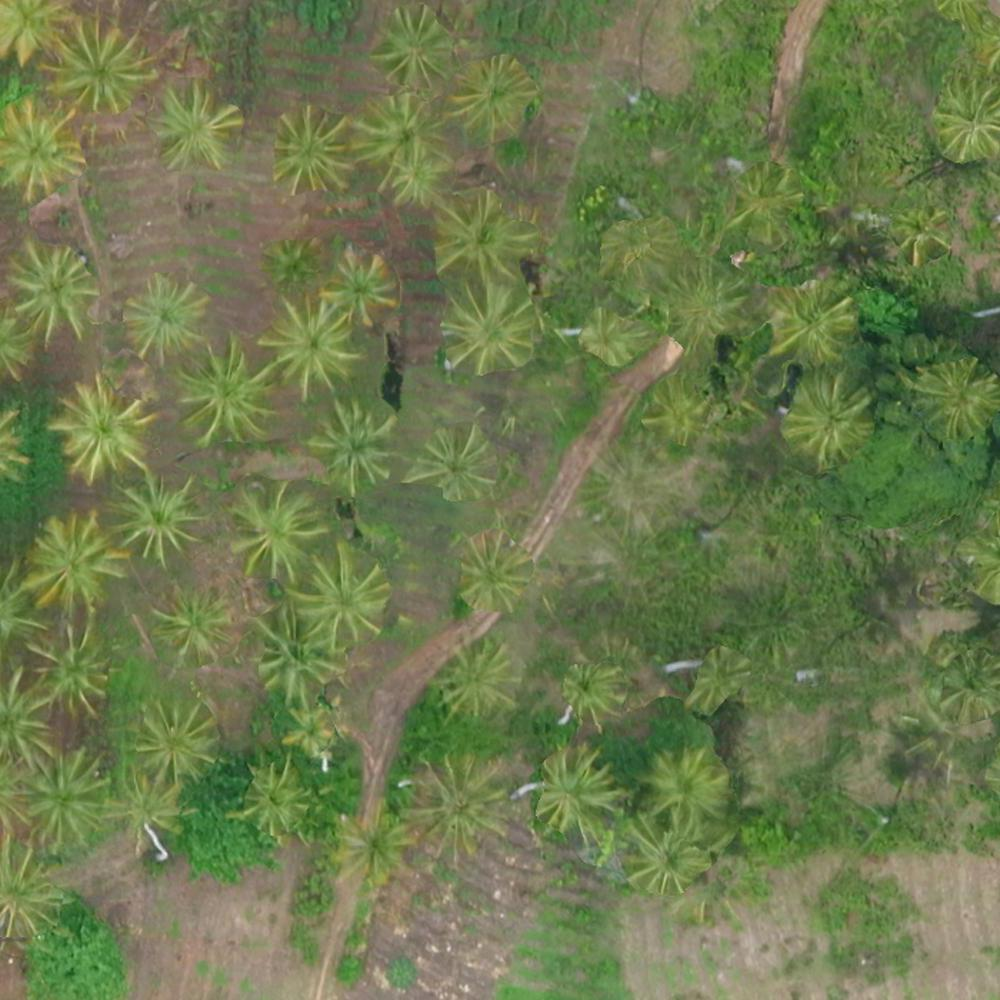Palm: (175, 338, 271, 439), (17, 749, 111, 851), (49, 18, 150, 111), (429, 194, 538, 280), (220, 485, 324, 575), (250, 604, 348, 698), (296, 544, 394, 636), (5, 240, 92, 340), (57, 379, 149, 473), (27, 516, 118, 609), (442, 286, 536, 376), (411, 752, 504, 842), (1, 98, 86, 194), (261, 298, 355, 384), (270, 107, 358, 196), (25, 629, 111, 718), (310, 399, 397, 484), (115, 473, 199, 561), (447, 50, 536, 132), (787, 376, 876, 458), (117, 277, 208, 357), (642, 746, 728, 828), (129, 702, 216, 783), (153, 585, 236, 666), (372, 4, 457, 83), (101, 765, 178, 851), (436, 640, 522, 716), (451, 534, 537, 610), (320, 247, 401, 327), (629, 816, 709, 896), (544, 749, 625, 827), (152, 89, 235, 165), (358, 90, 442, 164), (922, 82, 1000, 160), (768, 290, 857, 357), (414, 428, 494, 500), (924, 355, 999, 430), (237, 761, 316, 832), (331, 812, 409, 882), (563, 663, 626, 723), (279, 700, 336, 761), (263, 234, 321, 288), (390, 156, 445, 204)
